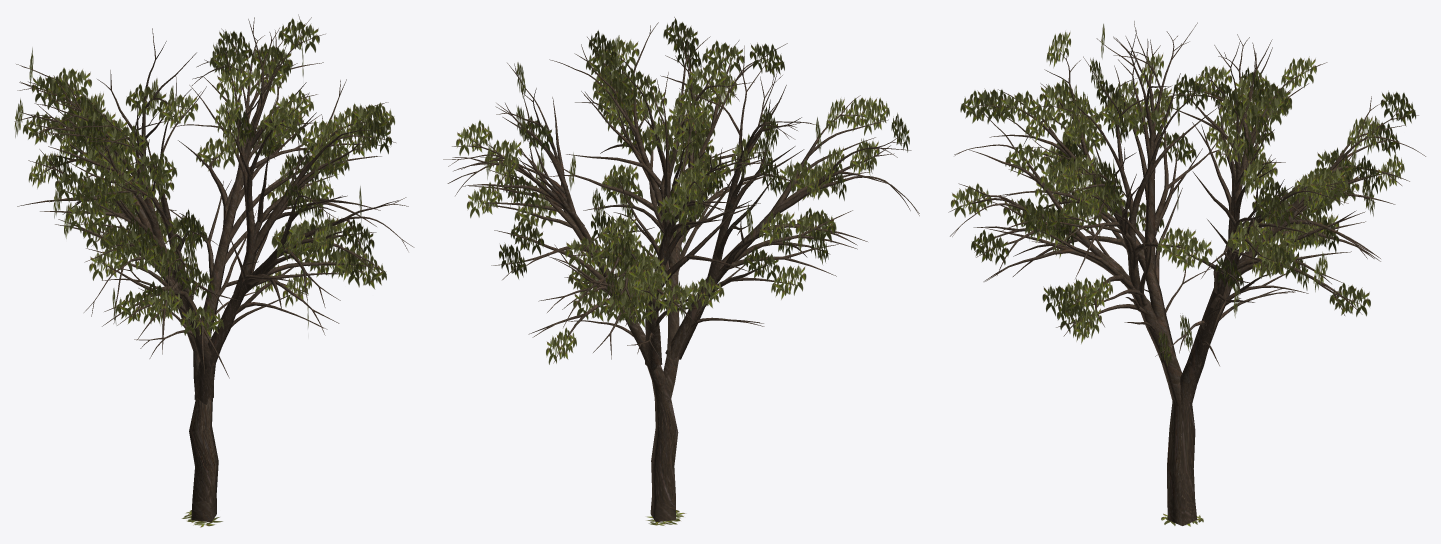
Rendered from Tree.glb.
3 views of the same model, side by side, from view 1: azimuth 30°, elevation 25°; view 2: azimuth 150°, elevation 25°; view 3: azimuth 270°, elevation 25° (orthographic).
Visible parts, largest first — view 1: Tree, Plane (×44); view 2: Tree, Plane (×30); view 3: Tree, Plane (×33).
Part boxes in pixels (left/top/right/bottom): Tree: left=14, top=14, right=414, bottom=522; Plane (×44): left=23, top=18, right=394, bottom=338; Tree: left=443, top=17, right=919, bottom=522; Plane (×30): left=456, top=18, right=889, bottom=364; Tree: left=948, top=21, right=1425, bottom=525; Plane (×33): left=950, top=56, right=1415, bottom=343.
Size of what is drawn, in the model's own units: 5.16 by 6.51 by 6.02.
2 materials, 2 textured.
